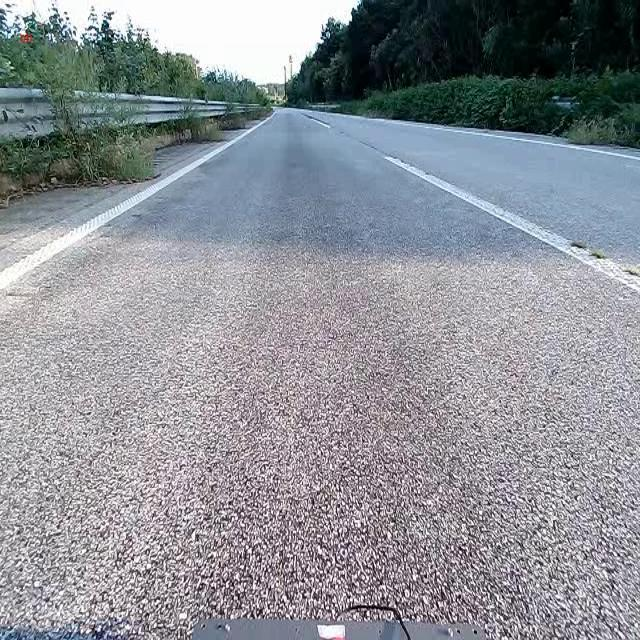Lane: (297, 97, 640, 307), (0, 105, 282, 293), (0, 119, 266, 290), (384, 155, 639, 294), (378, 119, 639, 161), (302, 112, 333, 126)
